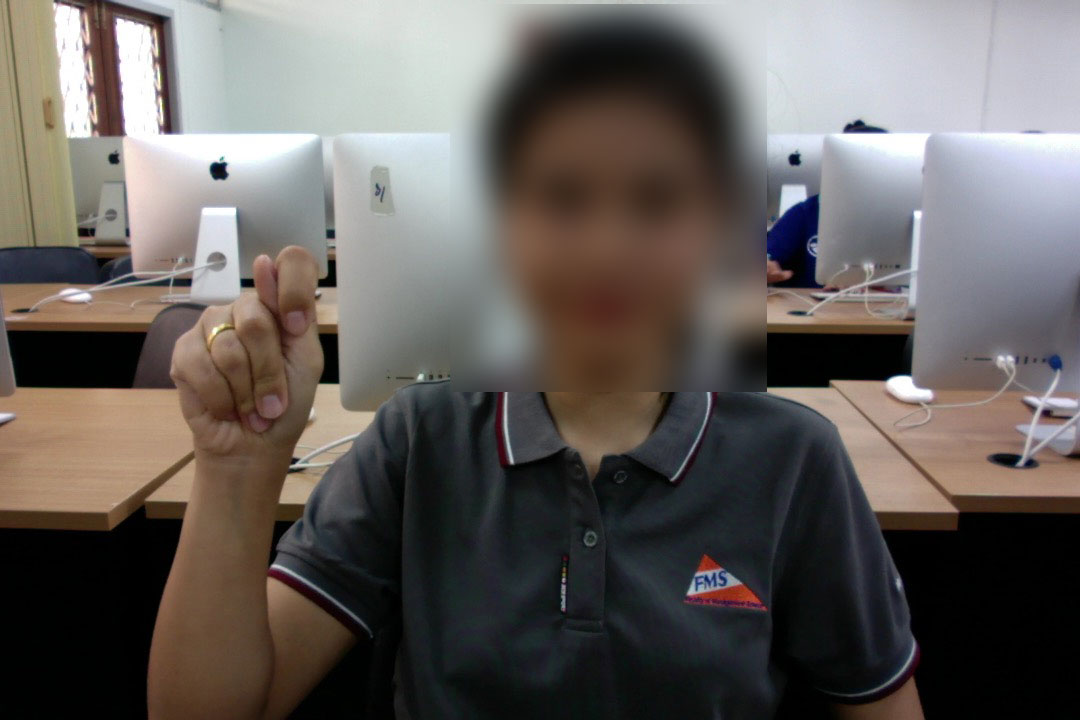tor: (166, 243, 326, 483)
